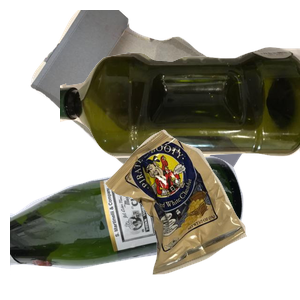glass: (10, 154, 246, 300)
paper: (28, 10, 268, 190)
plastic: (60, 44, 300, 195)
trash: (101, 127, 300, 300)
